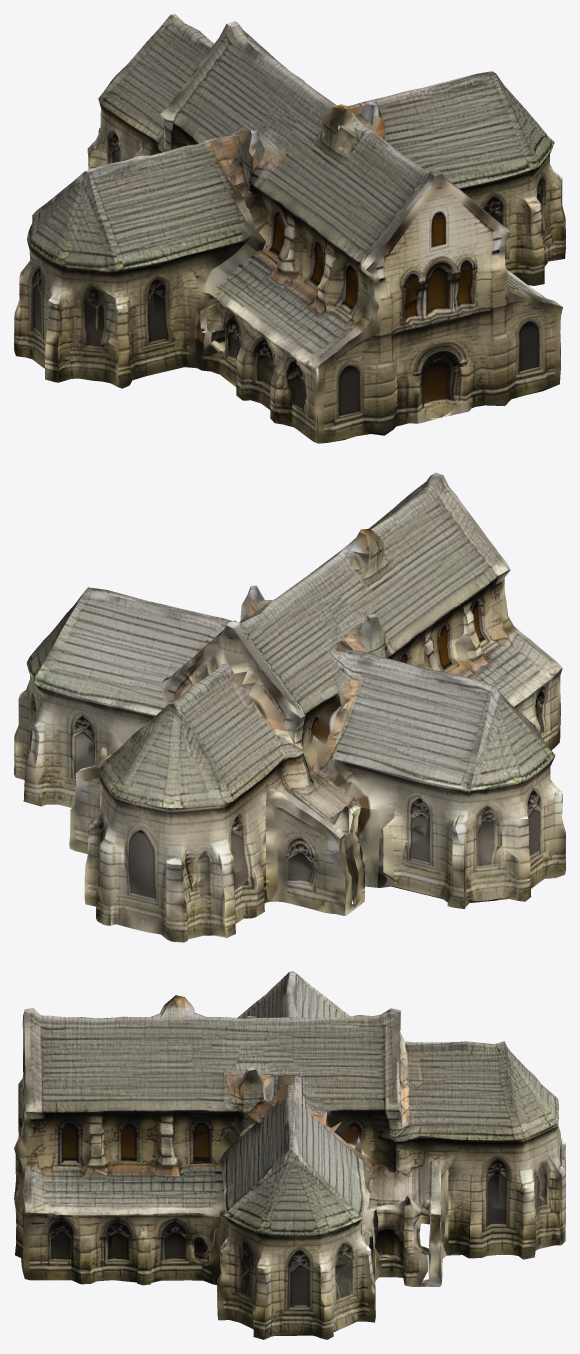
The model's file is monastery.glb.
3 renders of one model, top to bottom at view 1: azimuth 30°, elevation 25°; view 2: azimuth 150°, elevation 25°; view 3: azimuth 270°, elevation 25°, orthographic. The views are drawn at different scales.
Visible parts, largest first — view 1: Medieval Church; view 2: Medieval Church; view 3: Medieval Church.
Part boxes in pixels (<box>): Medieval Church: <box>14,14,565,443</box>; Medieval Church: <box>14,472,565,942</box>; Medieval Church: <box>14,971,565,1339</box>.
Bounding box in the file's own units: 53.56 × 25 × 54.69.
1 material, 1 textured.
